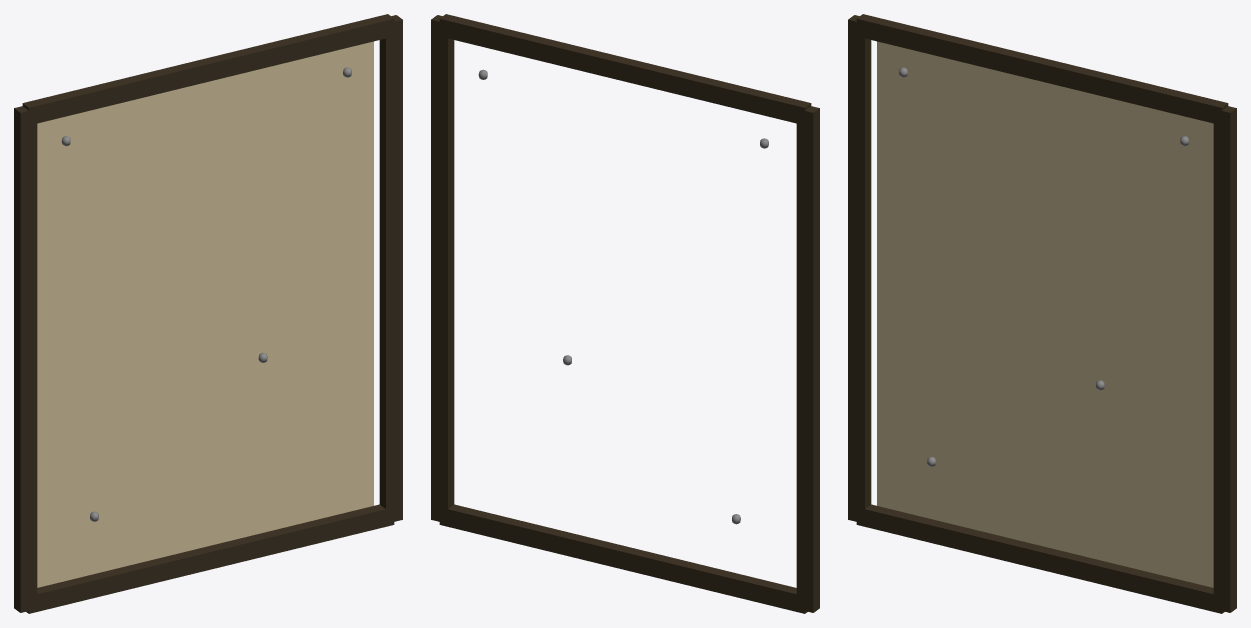
File: poster.glb
3 renders of one model, left to right at view 1: azimuth 30°, elevation 25°; view 2: azimuth 150°, elevation 25°; view 3: azimuth 330°, elevation 25°, orthographic.
Parts seen in each view (by area): view 1: poster_surface, object 5, object 4, object 2, object 3; view 2: object 5, object 4, object 2, object 3; view 3: poster_surface, object 4, object 5, object 2, object 3.
Part boxes in pixels (x1,y1,x2,y2): poster_surface: (37,41,373,587); object 5: (14,106,37,612); object 4: (379,15,402,522); object 2: (22,14,394,125); object 3: (26,504,394,613); object 5: (796,106,819,612); object 4: (431,15,454,522); object 2: (439,14,811,125); object 3: (439,504,807,613); poster_surface: (877,41,1213,587); object 4: (1213,106,1236,612); object 5: (848,15,871,521); object 2: (856,14,1228,125); object 3: (856,504,1224,613).
Bounding box in the file's own units: 0.68 × 0.86 × 0.0219.
